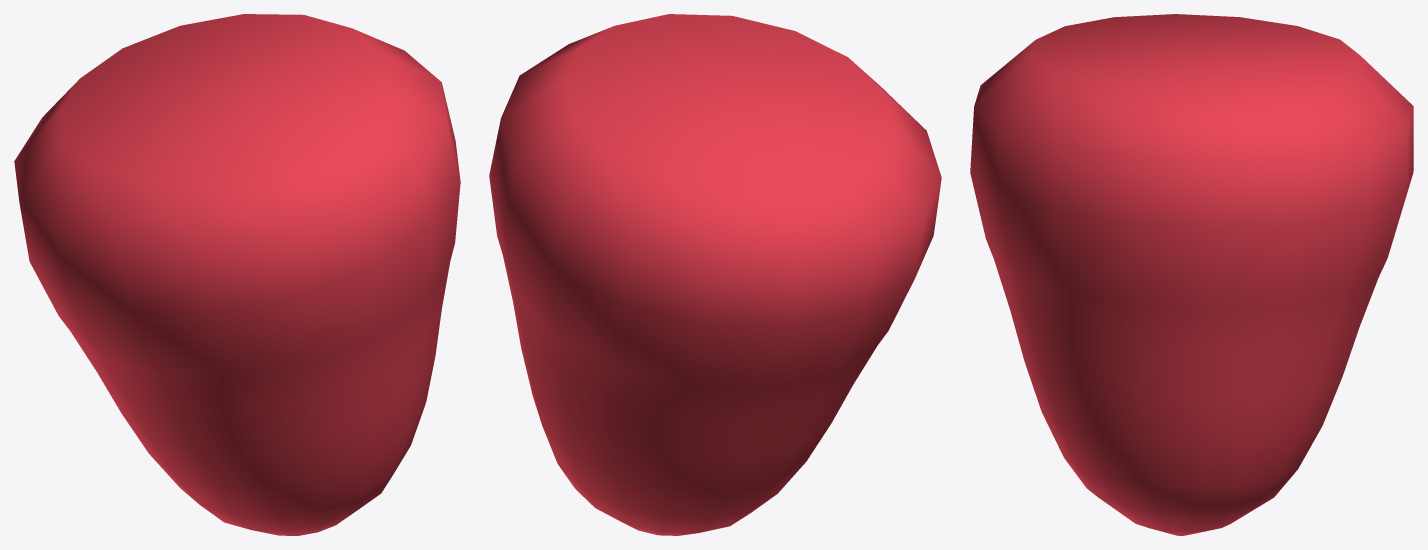
The model's file is Cilek.fbx.
3 renders of one model, left to right at view 1: azimuth 30°, elevation 25°; view 2: azimuth 150°, elevation 25°; view 3: azimuth 270°, elevation 25°, orthographic.
Visible parts, largest first — view 1: Cılek; view 2: Cılek; view 3: Cılek.
Part boxes in pixels (bbox=[...]): Cılek: bbox=[14, 14, 460, 535]; Cılek: bbox=[489, 14, 941, 535]; Cılek: bbox=[970, 14, 1413, 535].
Size of the model in its own units: 44.61 by 51.68 by 44.26.
